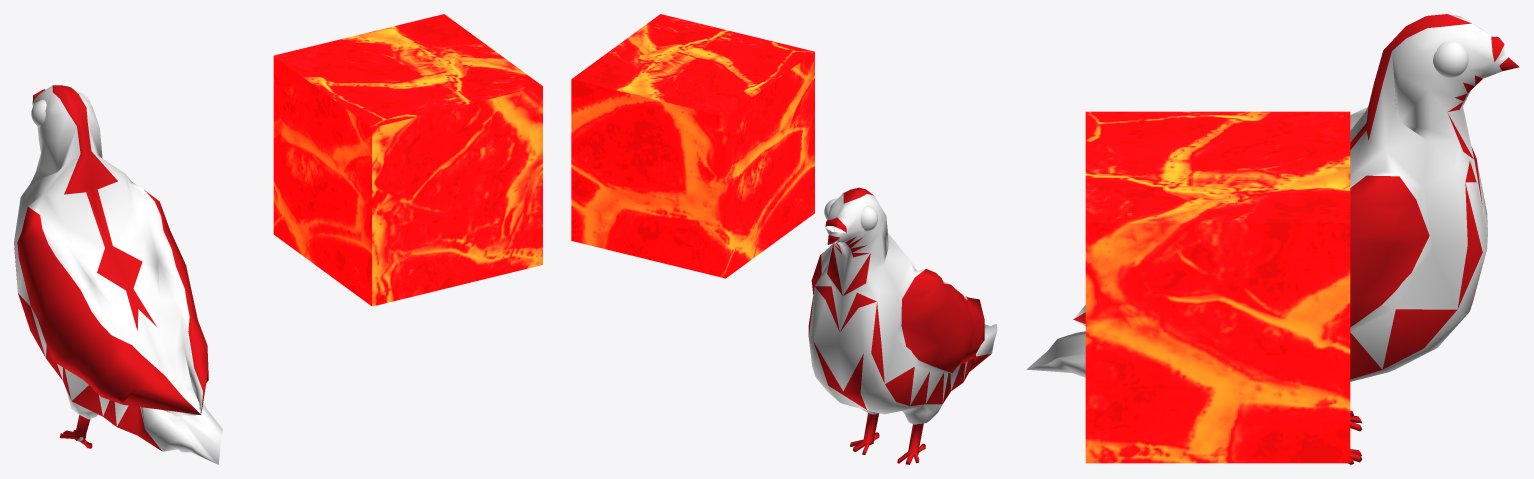
3 views of the same model, side by side, from view 1: azimuth 30°, elevation 25°; view 2: azimuth 150°, elevation 25°; view 3: azimuth 270°, elevation 25° (orthographic). The views are drawn at different scales.
Parts seen in each view (by area): view 1: Cube_Cube_Material, Plane_Plane.001_gold.002, Plane_Plane.001_lava.001; view 2: Cube_Cube_Material, Plane_Plane.001_gold.002, Plane_Plane.001_lava.001, Plane_Plane.001_Material; view 3: Cube_Cube_Material, Plane_Plane.001_gold.002, Plane_Plane.001_lava.001, Plane_Plane.001_Material.
Part boxes in pixels (x1=…): Cube_Cube_Material: x1=273, y1=14, x2=542, y2=306; Plane_Plane.001_gold.002: x1=14, y1=85, x2=222, y2=464; Plane_Plane.001_lava.001: x1=14, y1=85, x2=208, y2=450; Cube_Cube_Material: x1=571, y1=14, x2=814, y2=278; Plane_Plane.001_gold.002: x1=808, y1=190, x2=997, y2=424; Plane_Plane.001_lava.001: x1=808, y1=187, x2=991, y2=464; Plane_Plane.001_Material: x1=824, y1=198, x2=877, y2=231; Cube_Cube_Material: x1=1085, y1=111, x2=1350, y2=463; Plane_Plane.001_gold.002: x1=1026, y1=14, x2=1508, y2=381; Plane_Plane.001_lava.001: x1=1073, y1=14, x2=1519, y2=464; Plane_Plane.001_Material: x1=1433, y1=41, x2=1468, y2=77.
Size of the model in its own units: 4.87 by 3.72 by 3.73.
Materials: 4 (2 with a texture image).
